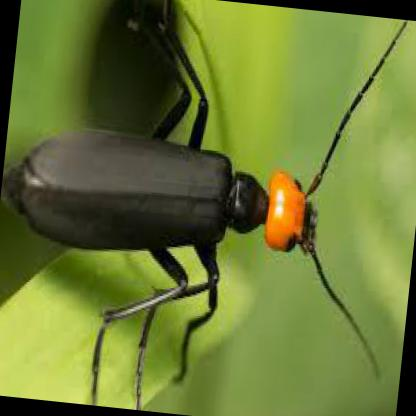blister beetle: (4, 2, 324, 311)
